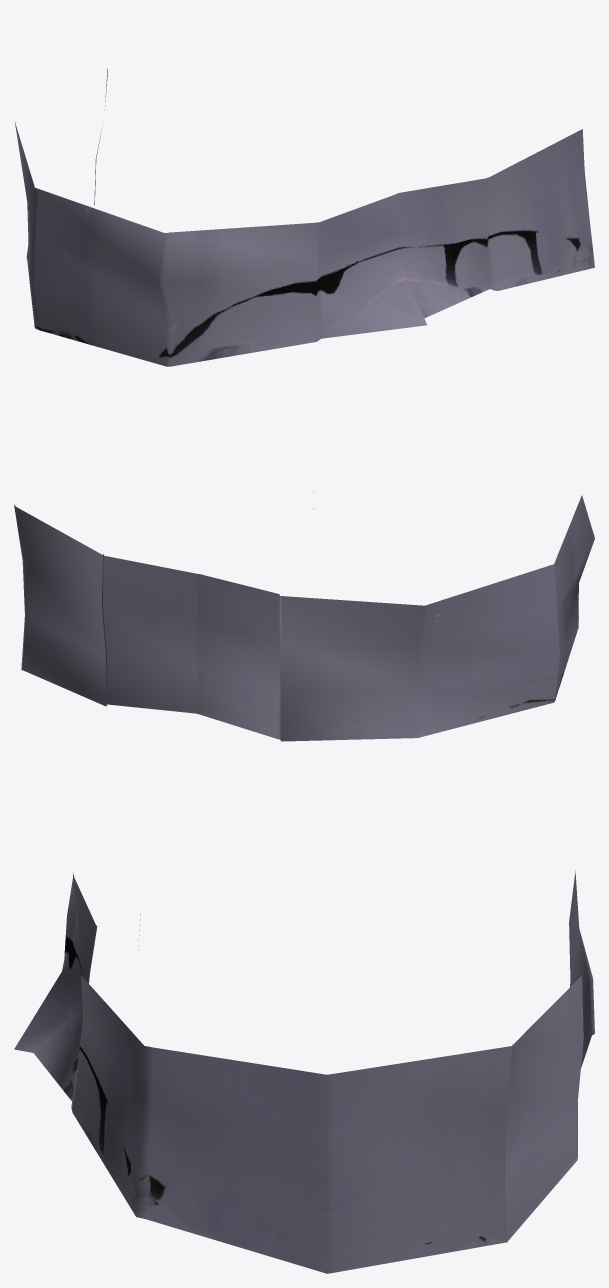
The picture shows the model from 3 angles, top to bottom: view 1: azimuth 30°, elevation 25°; view 2: azimuth 150°, elevation 25°; view 3: azimuth 270°, elevation 25°; orthographic projection. The views are drawn at different scales.
Visible parts, largest first — view 1: geometry_0; view 2: geometry_0; view 3: geometry_0.
Part boxes in pixels (x1,y1,x2,y2): geometry_0: [14, 68, 594, 366]; geometry_0: [14, 492, 594, 741]; geometry_0: [14, 871, 594, 1273].
Bounding box in the file's own units: 0.4063 × 0.1264 × 0.3241.
Materials: 1 (1 with a texture image).
